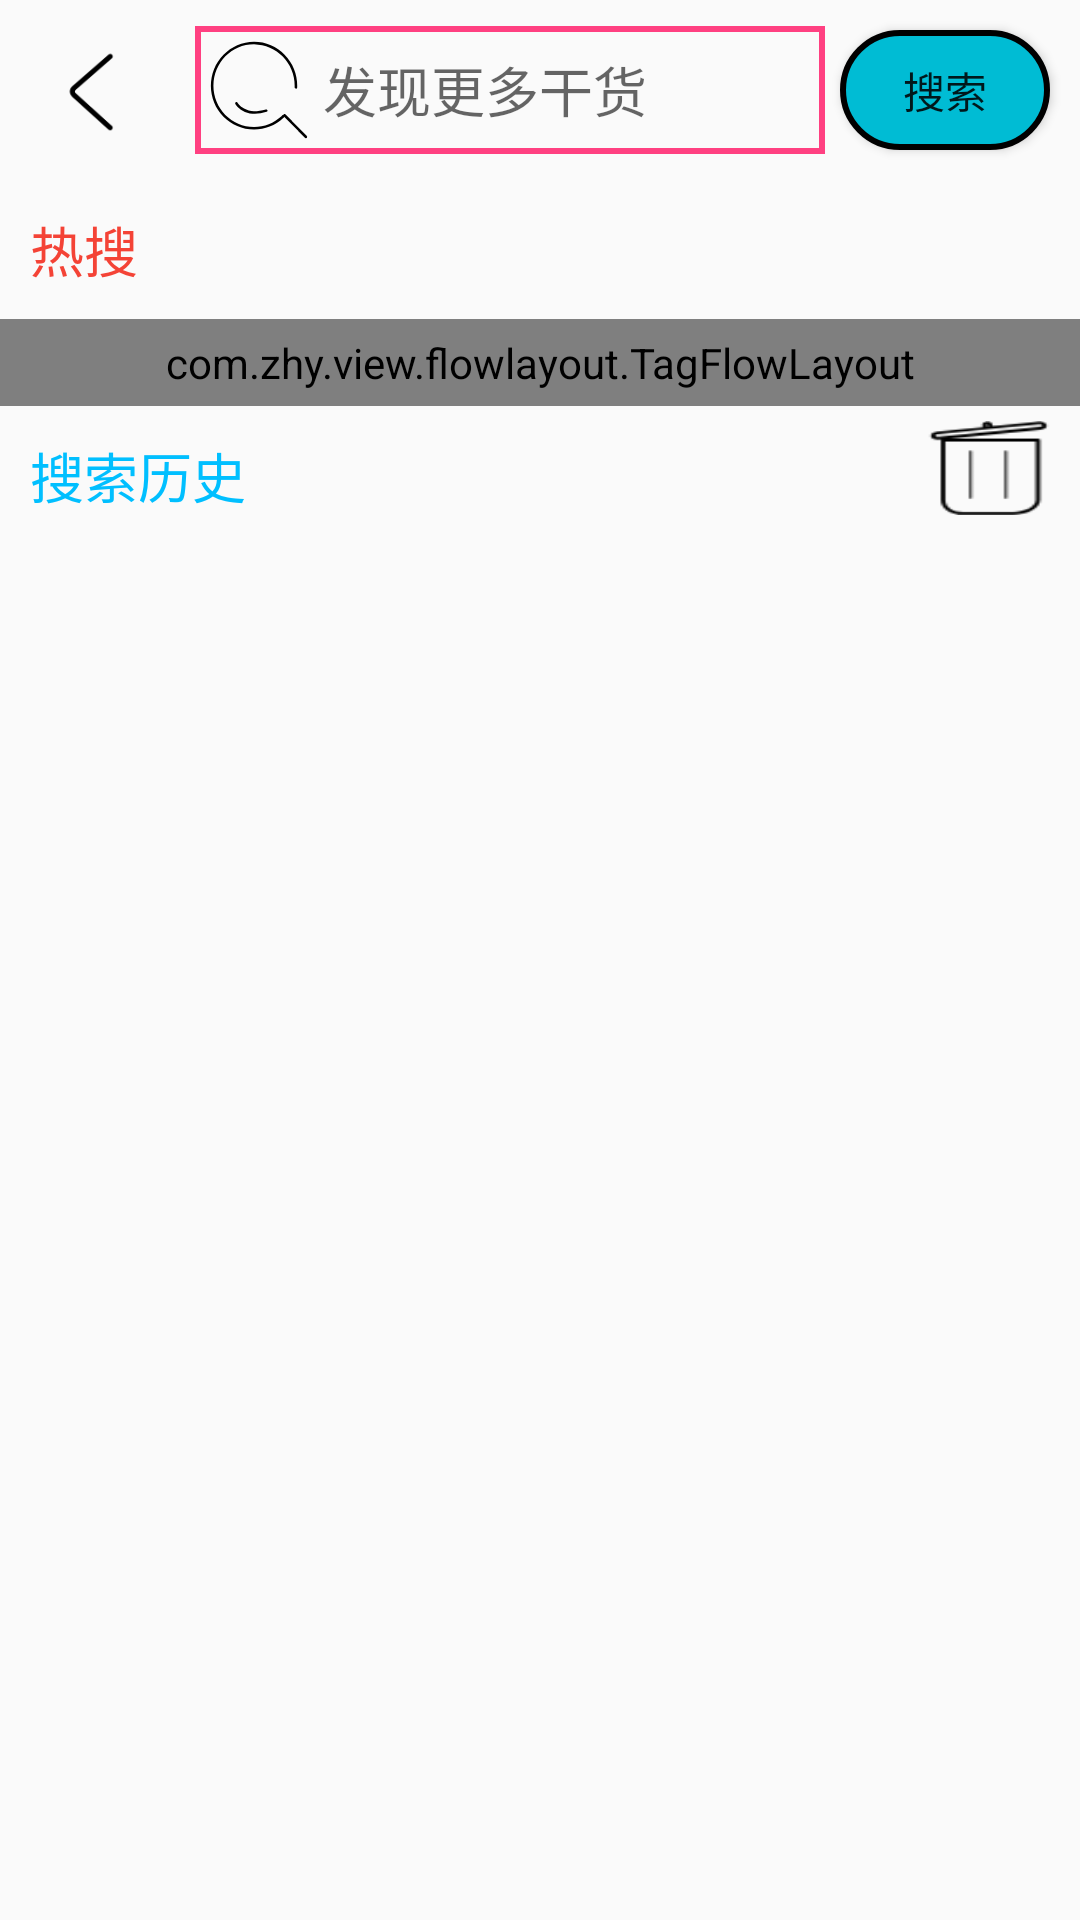

Screen size 1080w x 1920h. Icon name, then its box in pixels as (x1, y1, x2, y2):
back: (69, 53, 113, 131)
laji: (930, 421, 1047, 515)
